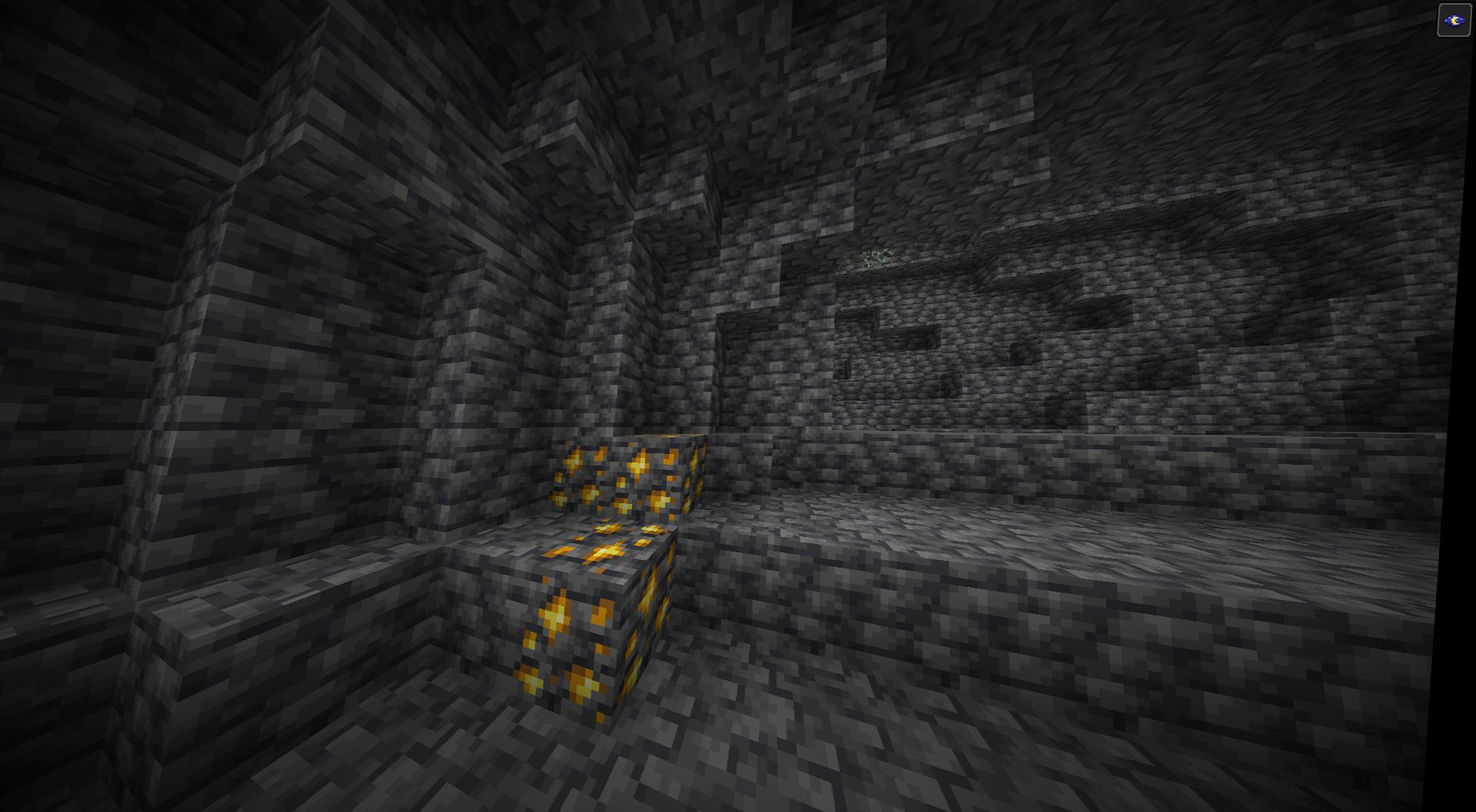gold ore: (532, 562, 631, 712), (629, 542, 688, 706), (542, 429, 622, 517), (552, 519, 673, 576), (614, 437, 693, 519), (688, 431, 716, 517)
